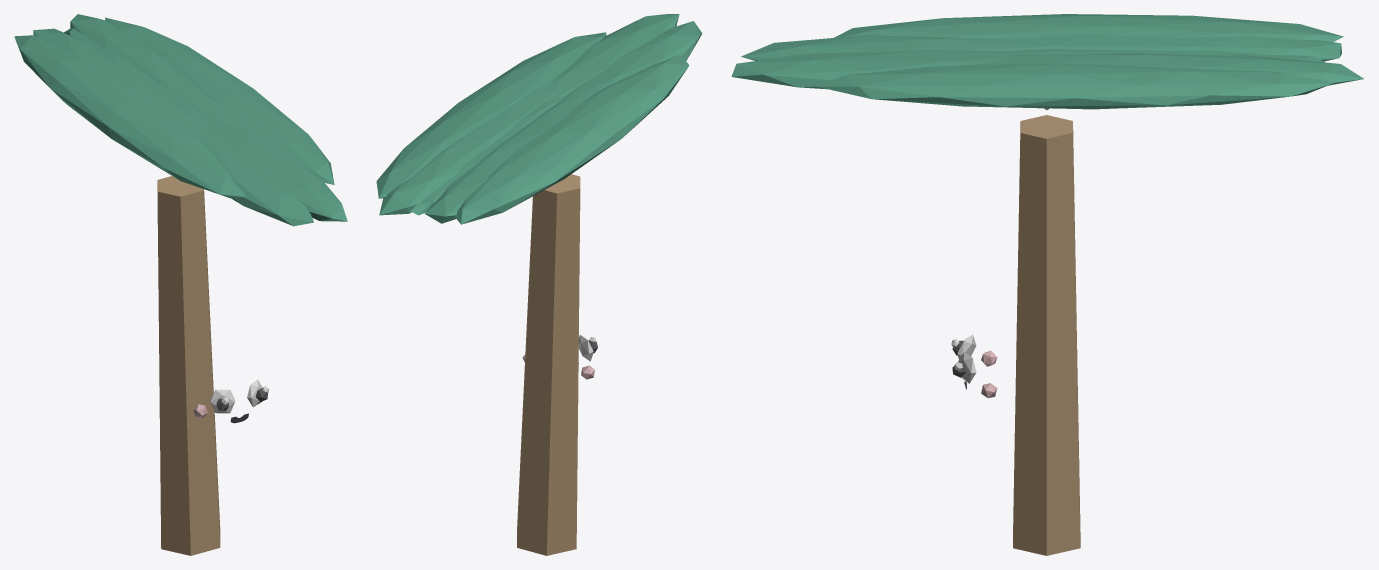
File: chrysalidocarpus-lutescens.glb
The picture shows the model from 3 angles, left to right: view 1: azimuth 30°, elevation 25°; view 2: azimuth 150°, elevation 25°; view 3: azimuth 270°, elevation 25°; orthographic projection. The views are drawn at different scales.
Visible parts, largest first — view 1: trunk, frond3, frond0, frond1, frond2, frond6, frond4, frond5; view 2: trunk, frond3, frond0, frond6, frond4, frond1, frond2, frond5; view 3: trunk, frond0, frond3, frond1, frond4, frond6, frond2, frond5.
Boxes of the visible parts, x1,y1,x2,y2 form: trunk: [157, 176, 220, 555]; frond3: [14, 35, 245, 198]; frond0: [105, 17, 334, 184]; frond1: [199, 110, 347, 221]; frond2: [192, 116, 313, 226]; frond6: [70, 14, 246, 129]; frond4: [33, 28, 200, 140]; frond5: [64, 28, 206, 125]; trunk: [517, 174, 580, 555]; frond3: [455, 55, 689, 224]; frond0: [376, 32, 606, 198]; frond6: [379, 78, 557, 215]; frond4: [425, 89, 602, 223]; frond1: [541, 14, 679, 104]; frond2: [556, 21, 702, 104]; frond5: [411, 95, 566, 215]; trunk: [1013, 115, 1080, 555]; frond0: [816, 63, 1333, 109]; frond3: [834, 14, 1343, 42]; frond1: [731, 50, 1043, 89]; frond4: [973, 34, 1341, 61]; frond6: [971, 53, 1363, 85]; frond2: [741, 35, 1034, 60]; frond5: [1007, 49, 1325, 62].
Size of the model in its own units: 0.2312 by 0.6301 by 0.7313.
